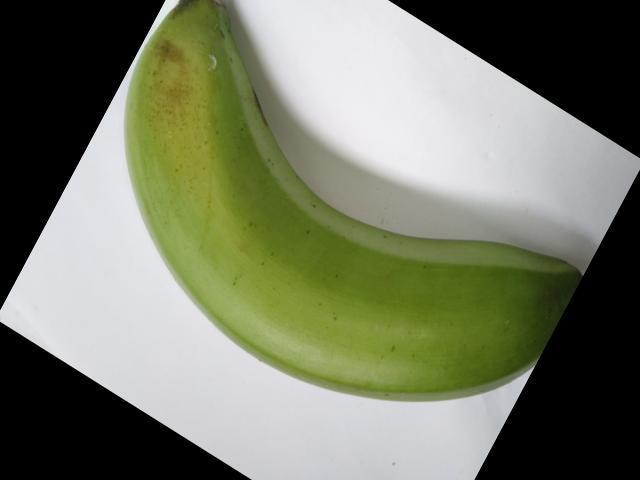freshunripe: (108, 0, 600, 406)
